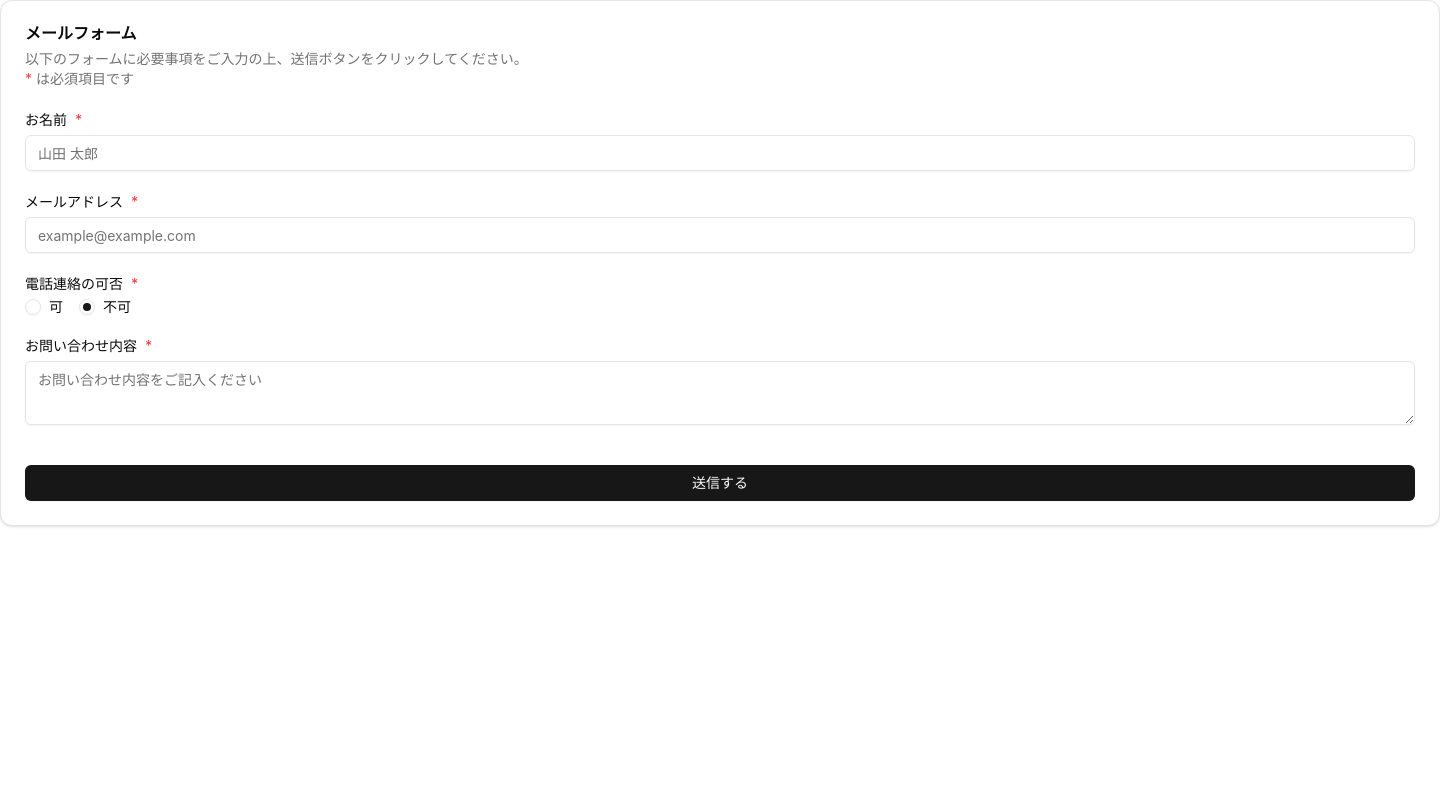
ContactEmailForm › Form Submission Logic › successful submission resets form and shows success message
The image size is (1440, 810).
Type "Test User" into the field labelled "お名前 *" at (720, 153), box [25,135,1415,171]
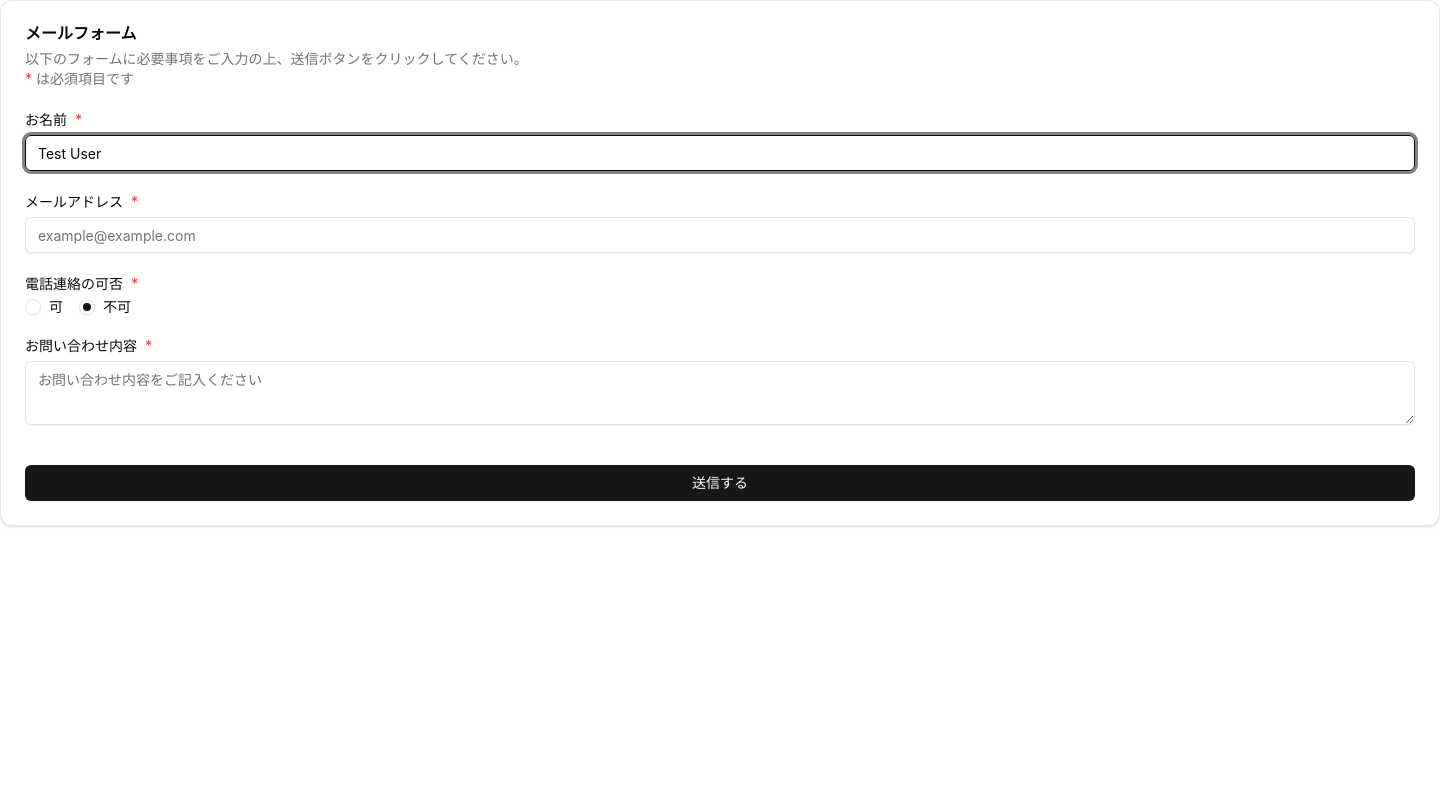
Type "test@example.com" into the field labelled "メールアドレス *" at (720, 235), box [25,217,1415,253]
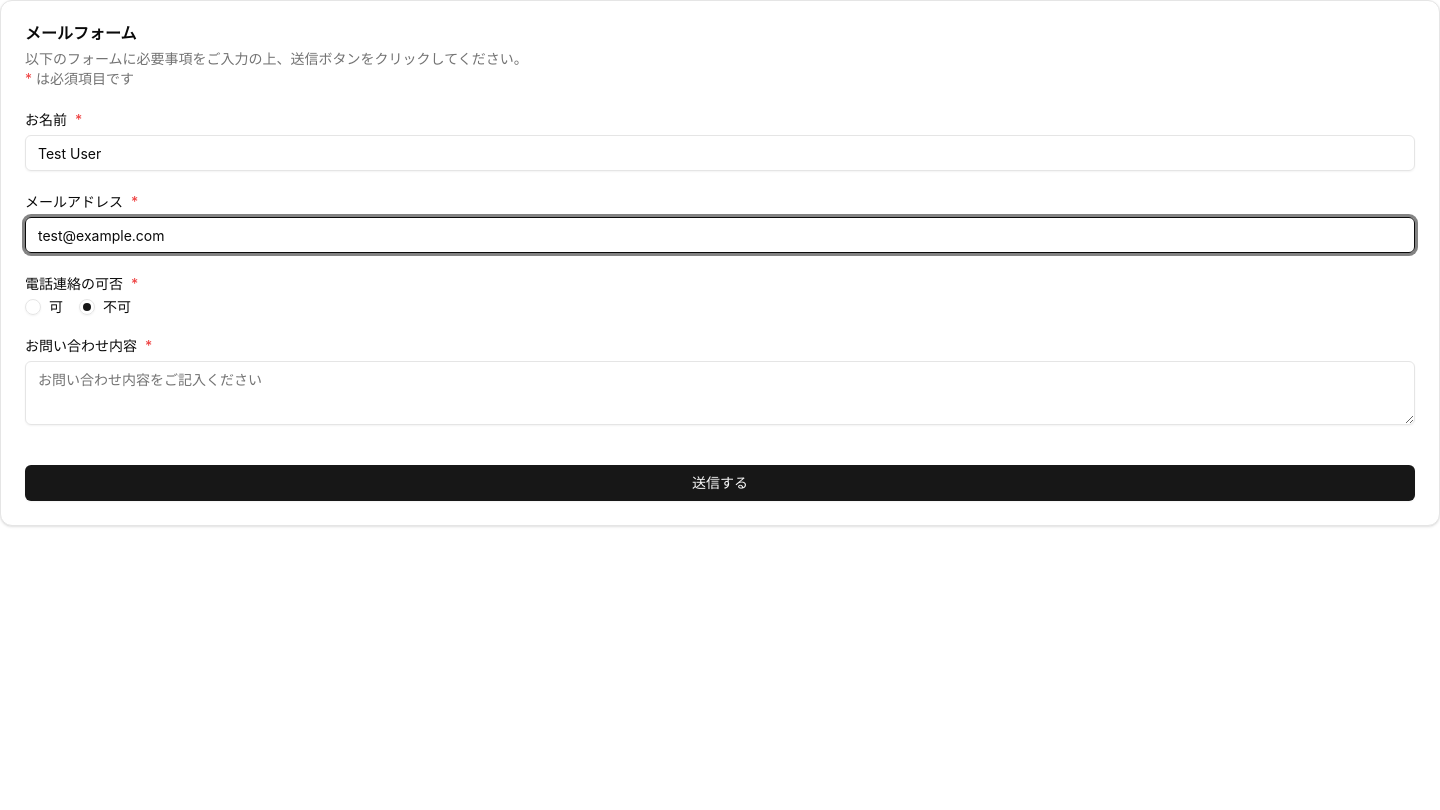
Type "This is a valid message, long enough for tests." into the text box labelled "お問い合わせ内容 *" at (720, 393), box [25,361,1415,425]
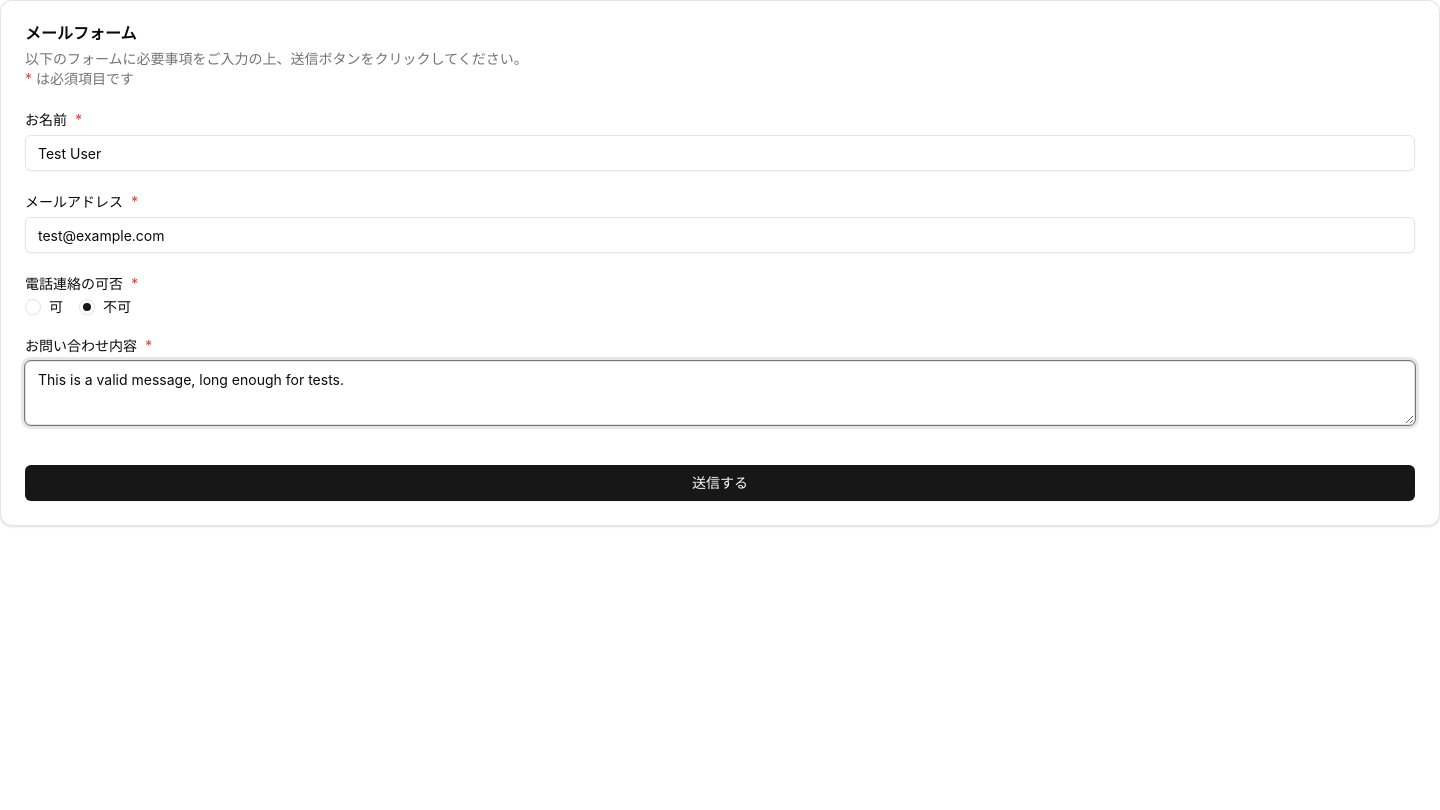
Click the radio button named "不可" next to "不可" at (87, 307), box [79,299,95,315]
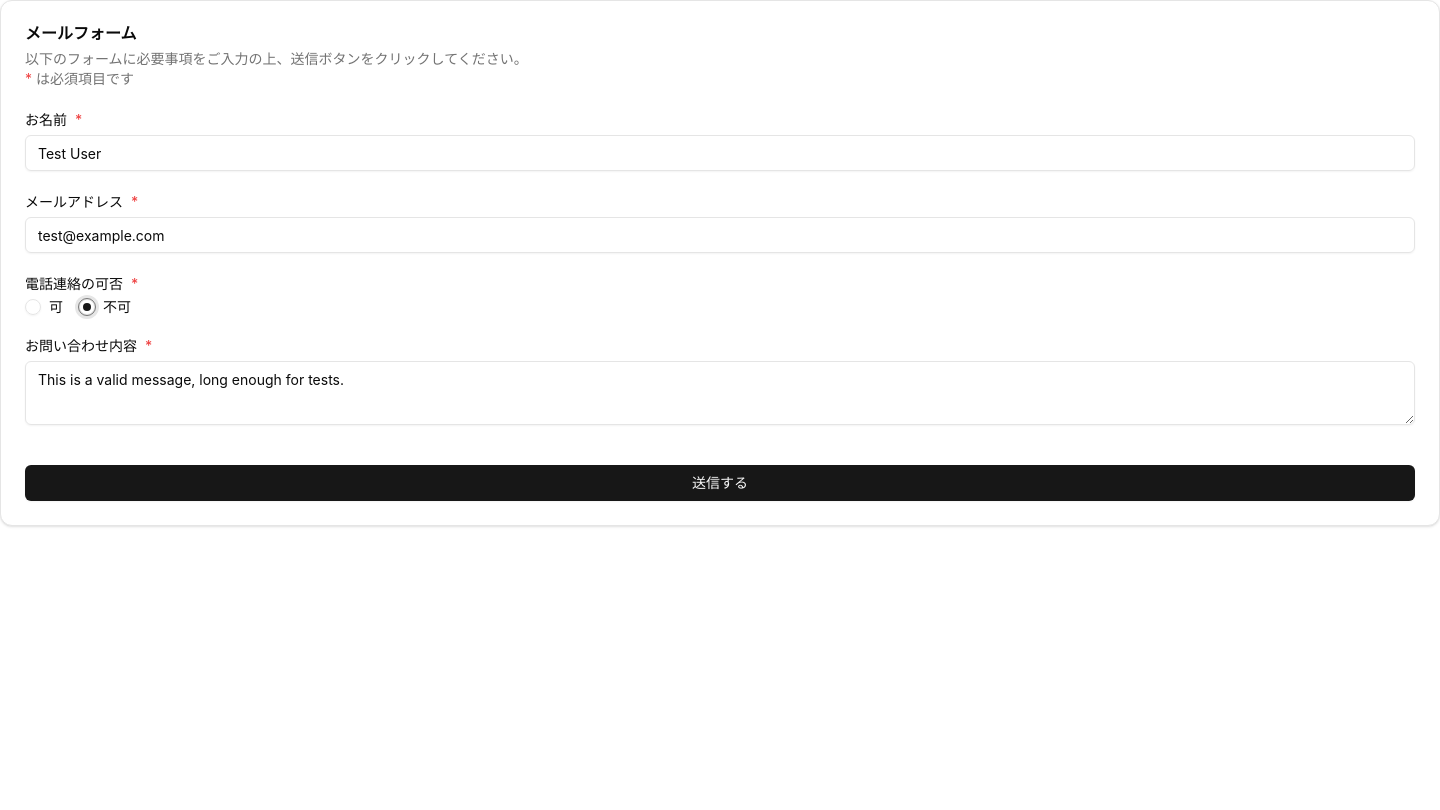
Click the button "送信する" at (720, 483), box [25,465,1415,501]
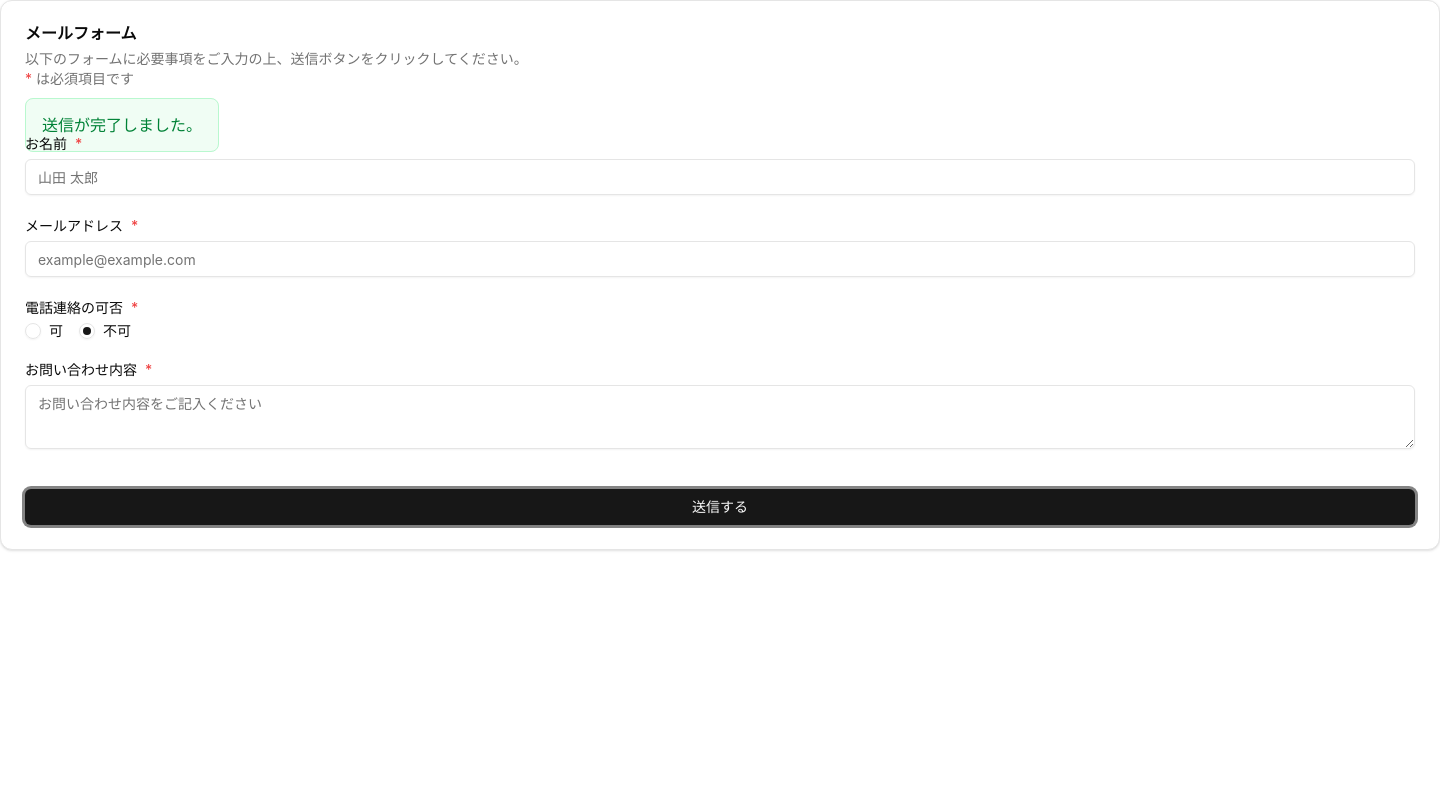
Expected: the button "送信する" is enabled, [25,489,1415,525]
Now the text "送信が完了しました。" is shown, box [25,98,219,152]
